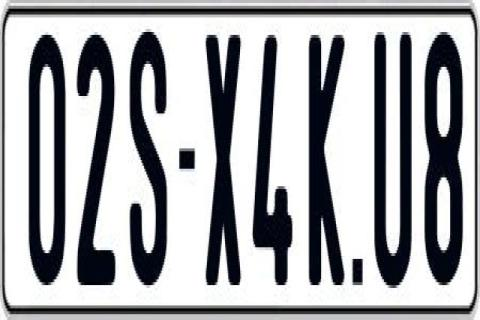0: (76, 29, 118, 285), (27, 32, 67, 296), (424, 32, 463, 302), (250, 27, 290, 280)
K: (307, 35, 345, 297)
S: (130, 29, 170, 299)
U: (371, 24, 414, 294)
X: (204, 35, 242, 297)
